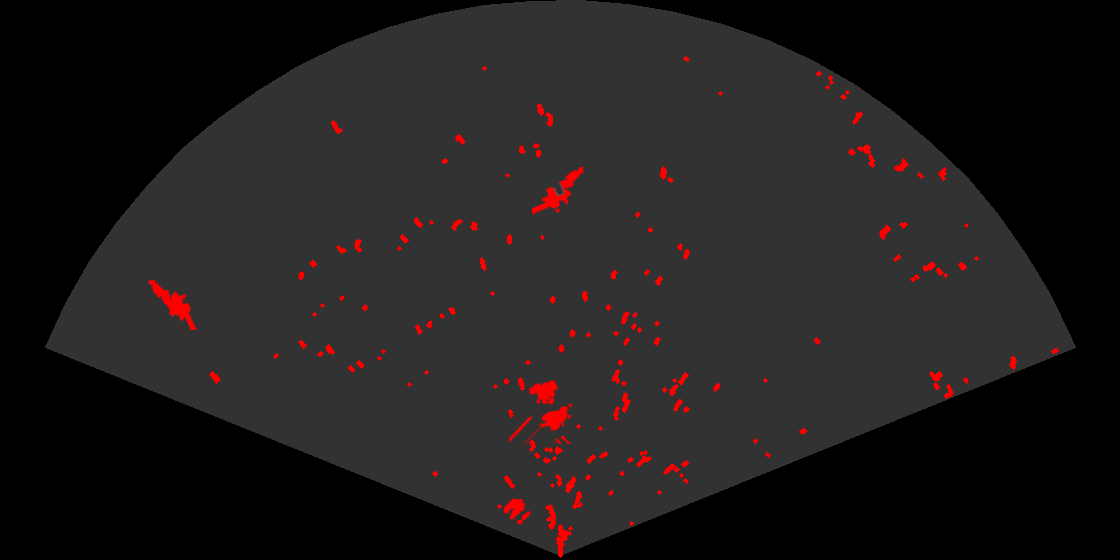ball: (502, 497, 532, 526)
cage: (509, 378, 574, 444)
frogman: (144, 267, 198, 330), (532, 165, 586, 216)
